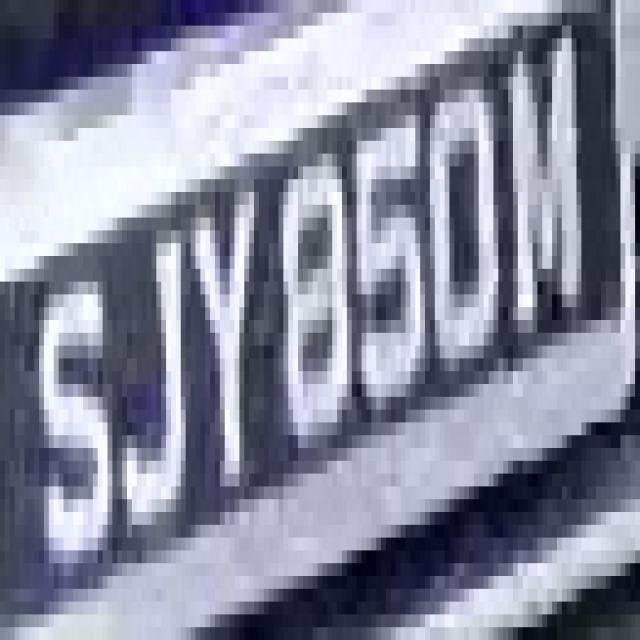0: (420, 90, 498, 396)
5: (352, 103, 425, 410)
8: (268, 90, 356, 487)
J: (98, 205, 200, 550)
M: (503, 0, 601, 346)
S: (39, 230, 117, 589)
Y: (176, 115, 259, 525)
